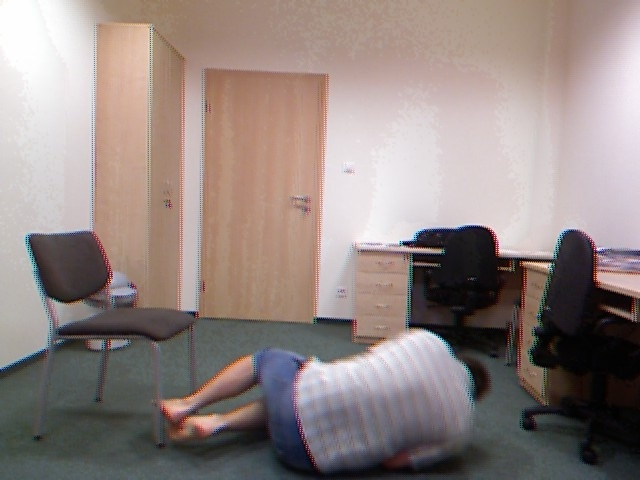fall: (143, 325, 504, 480)
